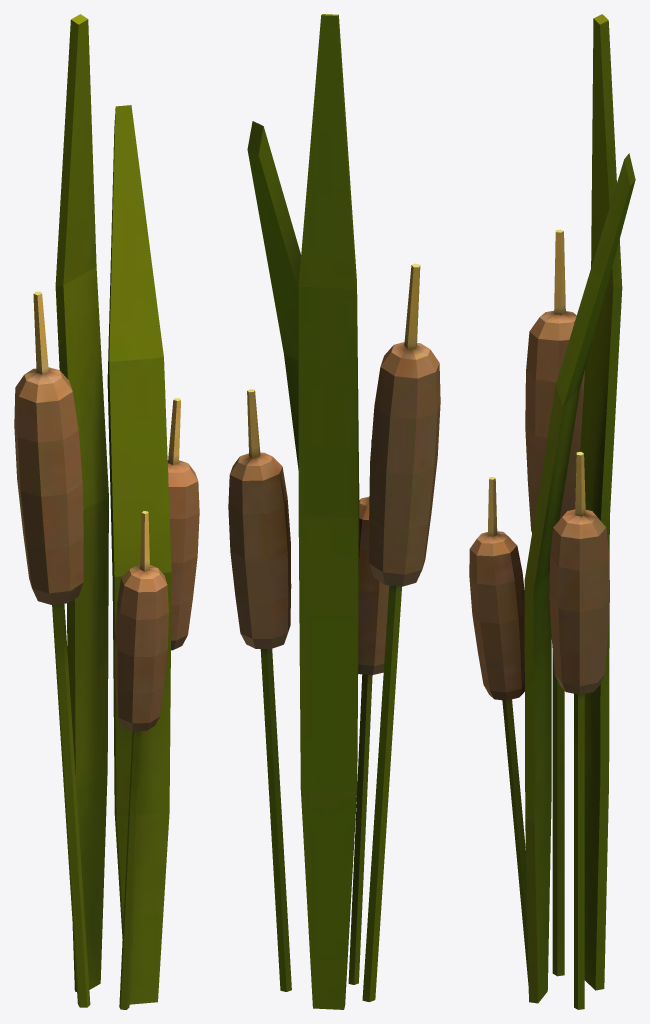
Rendered from cattail.glb.
The picture shows the model from 3 angles, left to right: view 1: azimuth 30°, elevation 25°; view 2: azimuth 150°, elevation 25°; view 3: azimuth 270°, elevation 25°; orthographic projection. The views are drawn at different scales.
Visible parts, largest first — view 1: Cattail; view 2: Cattail; view 3: Cattail.
Part boxes in pixels (left/top/right/bottom): Cattail: left=14, top=14, right=199, bottom=1009; Cattail: left=228, top=14, right=440, bottom=1009; Cattail: left=469, top=14, right=635, bottom=1009.
Size of the model in its own units: 0.2047 by 1 by 0.1563.
1 material, 1 textured.
